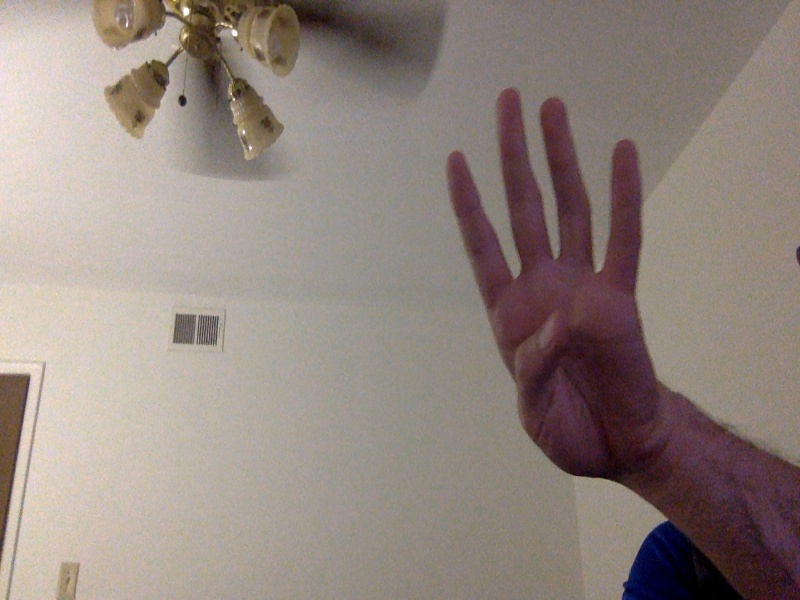4-hand: (444, 87, 647, 490)
